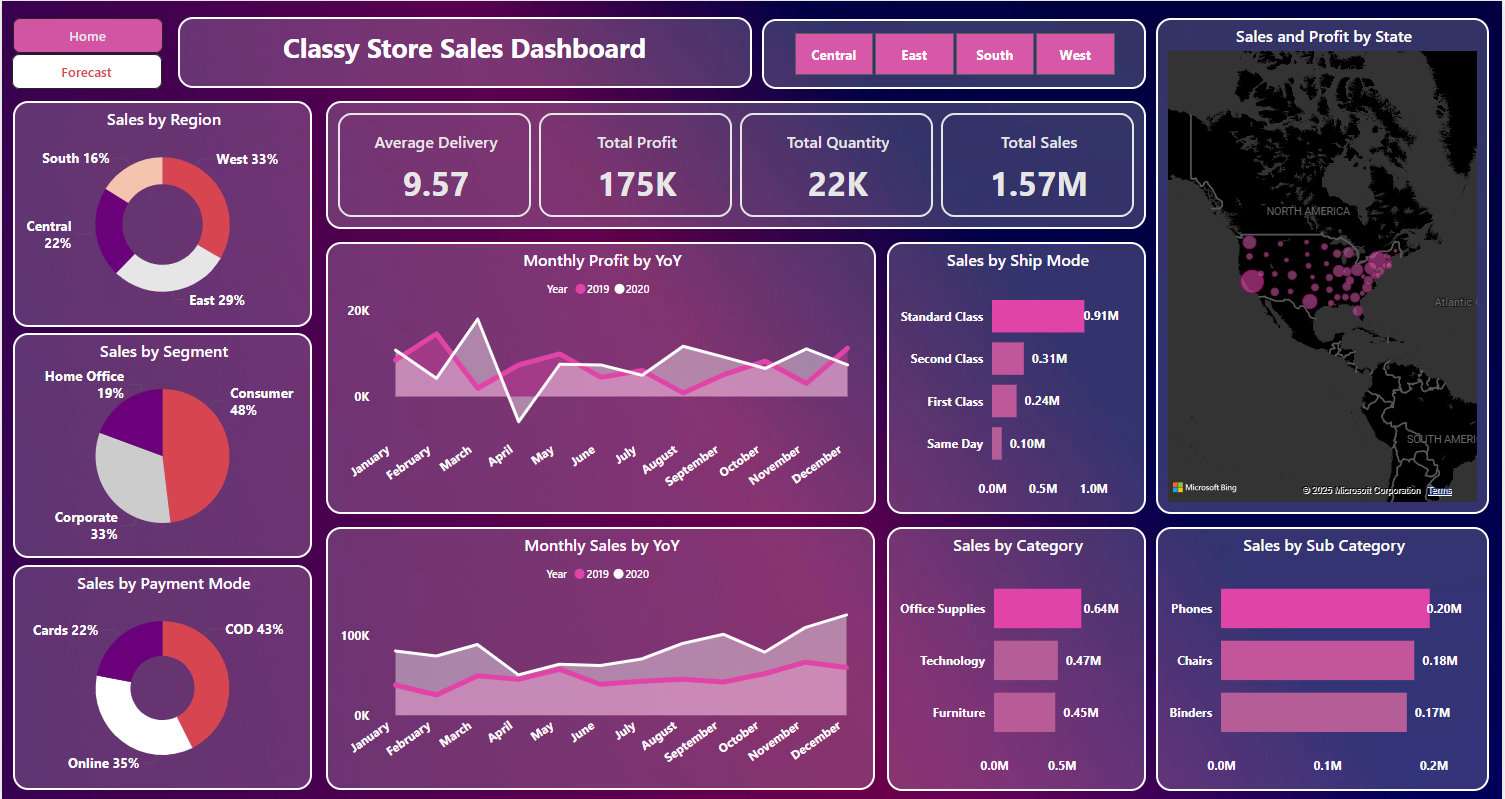

The page's visual inventory and layout, read from the dashboard file:
{"tool":"powerbi","page":{"name":"Home","canvas":[1500,800],"ordinal":0},"visuals":[{"type":"barChart","title":"Sales by Category","fields":{"Category":["ClassyStore DataSet.Category"],"Y":["Sum(ClassyStore DataSet.Sales)"]},"box":[884.9,525.9,259.5,264.4],"z":0},{"type":"barChart","title":"Sales by Sub Category","fields":{"Y":["Sum(ClassyStore DataSet.Sales)"],"Category":["ClassyStore DataSet.Sub-Category"]},"box":[1154.1,525.9,332.7,264.4],"z":1000},{"type":"barChart","title":"Sales by Ship Mode","fields":{"Y":["Sum(ClassyStore DataSet.Sales)"],"Category":["ClassyStore DataSet.Ship Mode"]},"box":[884.9,241,259.5,272.2],"z":2000},{"type":"areaChart","title":"Monthly Sales by YoY","fields":{"Category":["ClassyStore DataSet.Order Date.Variation.Date Hierarchy.Month","ClassyStore DataSet.Order Date.Variation.Date Hierarchy.Day"],"Y":["Sum(ClassyStore DataSet.Sales)"],"Series":["ClassyStore DataSet.Order Date.Variation.Date Hierarchy.Year"]},"box":[323.9,525.9,549.3,263.4],"z":3000},{"type":"areaChart","title":"Monthly Profit by YoY","fields":{"Category":["ClassyStore DataSet.Order Date.Variation.Date Hierarchy.Month","ClassyStore DataSet.Order Date.Variation.Date Hierarchy.Day"],"Series":["ClassyStore DataSet.Order Date.Variation.Date Hierarchy.Year"],"Y":["Sum(ClassyStore DataSet.Profit)"]},"box":[323.9,241,550.2,272.2],"z":4000},{"type":"map","title":"Sales and Profit by State","fields":{"Category":["ClassyStore DataSet.State"],"Size":["Sum(ClassyStore DataSet.Sales)"]},"box":[1154.1,16.6,332.7,496.6],"z":5000},{"type":"pieChart","title":"Sales by Segment","fields":{"Category":["ClassyStore DataSet.Segment"],"Y":["Sum(ClassyStore DataSet.Sales)"]},"box":[10.7,331.7,299.5,225.4],"z":6000},{"type":"donutChart","title":"Sales by Payment Mode","fields":{"Y":["Sum(ClassyStore DataSet.Sales)"],"Category":["ClassyStore DataSet.Payment Mode"]},"box":[10.7,563.9,299.5,225.4],"z":7000},{"type":"slicer","fields":{"Values":["ClassyStore DataSet.Region"]},"box":[759.8,17.6,384.6,70.3],"z":8000},{"type":"textbox","box":[175.6,15.6,574.6,71.2],"z":9000},{"type":"cardVisual","fields":{"Data":["Avg(ClassyStore DataSet.AverageDelivery)","Sum(ClassyStore DataSet.Profit)","Sum(ClassyStore DataSet.Quantity)","Sum(ClassyStore DataSet.Sales)"]},"box":[323.9,100.5,820.5,127.8],"z":10000},{"type":"donutChart","title":"Sales by Region","fields":{"Category":["ClassyStore DataSet.Region"],"Y":["Sum(ClassyStore DataSet.Sales)"]},"box":[10.7,100.5,299.5,225.4],"z":11000},{"type":"pageNavigator","box":[9.8,52.7,150.2,35.1],"z":12000},{"type":"pageNavigator","box":[10.7,16.6,150.2,35.1],"z":13000}]}

Visuals, with their boxes in screenshot pixels (x1, y1, x2, y2), scaled from the page's 1500x800 canvas onto the 1505x799 screenshot:
"Sales by Category" barChart: detection(888, 525, 1148, 789)
"Sales by Sub Category" barChart: detection(1158, 525, 1492, 789)
"Sales by Ship Mode" barChart: detection(888, 241, 1148, 513)
"Monthly Sales by YoY" areaChart: detection(325, 525, 876, 788)
"Monthly Profit by YoY" areaChart: detection(325, 241, 877, 513)
"Sales and Profit by State" map: detection(1158, 17, 1492, 513)
"Sales by Segment" pieChart: detection(11, 331, 311, 556)
"Sales by Payment Mode" donutChart: detection(11, 563, 311, 788)
slicer - ClassyStore DataSet.Region: detection(762, 18, 1148, 88)
textbox: detection(176, 16, 753, 87)
cardVisual - Avg(ClassyStore DataSet.AverageDelivery) x Sum(ClassyStore DataSet.Profit): detection(325, 100, 1148, 228)
"Sales by Region" donutChart: detection(11, 100, 311, 325)
pageNavigator: detection(10, 53, 161, 88)
pageNavigator: detection(11, 17, 161, 52)
